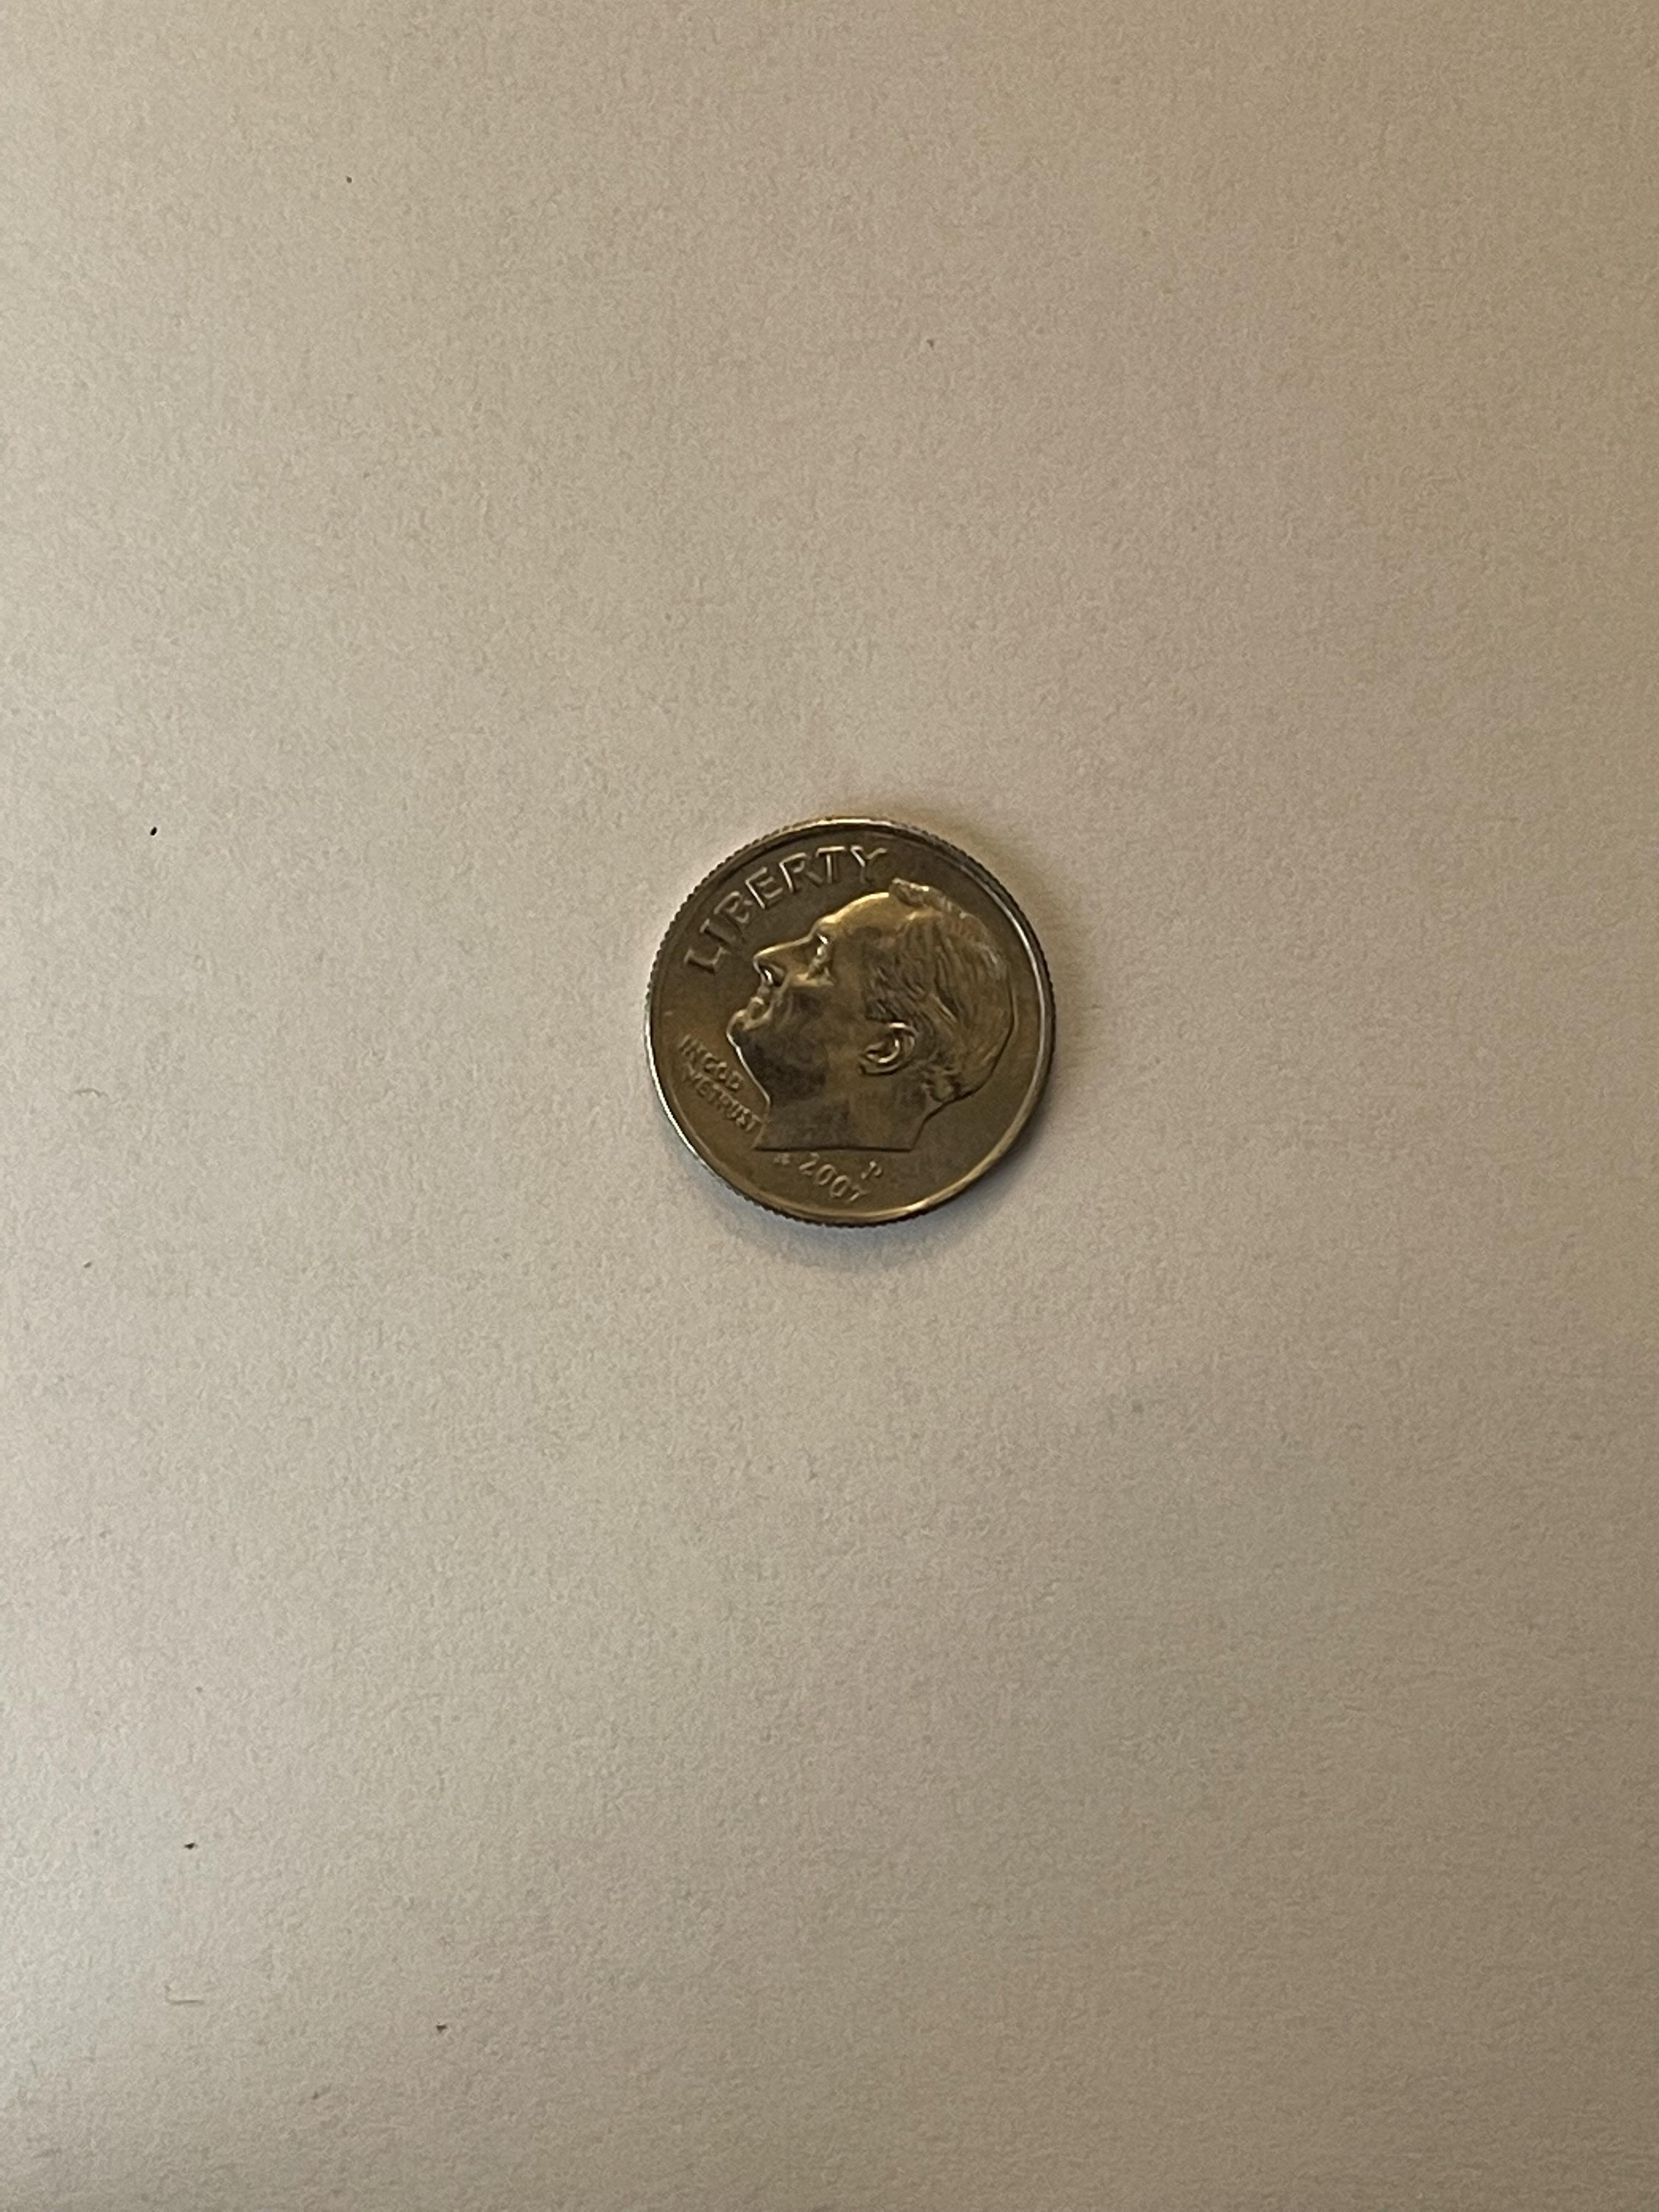Dime: (638, 813, 1056, 1231)
